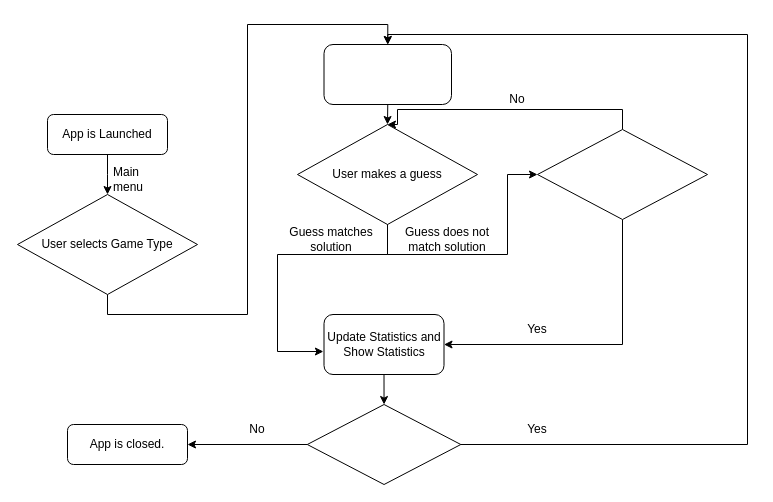
The diagram is 773 pixels wide and 502 high, and some of its shapes have lost their labels. Each missing label, with the centre of its shape:
"Has the user guessed 6 times already?" goes at point 622,174.
"Show game board screen and virtual keyboard" goes at point 387,74.
"User wishes to return to board?" goes at point 383,444.
